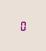zero: (19, 20, 25, 30)
